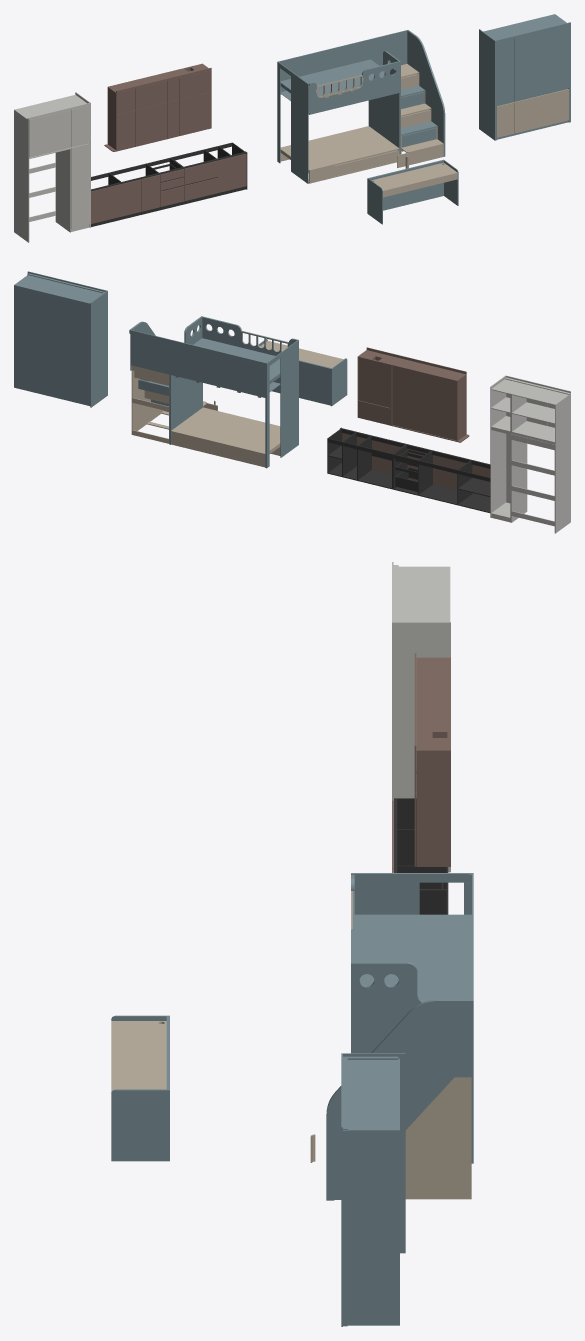
The picture shows the model from 3 angles, top to bottom: view 1: azimuth 30°, elevation 25°; view 2: azimuth 150°, elevation 25°; view 3: azimuth 270°, elevation 25°; orthographic projection. The views are drawn at different scales.
Visible parts, largest first — view 1: ABF_PART_41____LYR_[Layer0]____41. Giường tầng - Trên - Vai , ABF_PART_33____LYR_[Layer0]____33. Giường tầng - Dưới - Chân, ABF_PART_36____LYR_[Layer0]____36. Giường tầng - Trên - Hậu , ABF_PART_165____LYR_[Layer0]____165. Tủ áo - md 1 - Hông trá, ABF_PART_1135____LYR_[Mat_Canh]__Cánh-Tủ khô, ABF_PART_11____LYR_[Layer0]____11. Giường tầng - Dưới - Chân, ABF_PART_2123____LYR_[Layer0]____2123. Giường tầng - Dưới - , ABF_PART_20____LYR_[Layer0]____20. Giường tầng - Trên - Vạt , ABF_PART_1____LYR_[Layer0]__Hồi trái-Tủ lạnh-dưới, ABF_PART_2____LYR_[Layer0]__Hồi phải-Tủ lạnh-dưới, ABF_PART_175____LYR_[_CÁNH]____175. Tủ áo - md 1 - __Cánh ph, ABF_PART_127____LYR_[Layer0]____127. Cầu thang - Tay vịn <Ch (+53 smaller); view 2: ABF_PART_172____LYR_[Layer0]____172. Tủ áo - md 2 - Hậu, ABF_PART_130____LYR_[Layer0]____130. Tủ áo - md 1 - Hậu, ABF_PART_36____LYR_[Layer0]____36. Giường tầng - Trên - Hậu , ABF_PART_1344____LYR_[Layer0]__Hậu-Bếp trên-1, ABF_PART_33____LYR_[Layer0]____33. Giường tầng - Dưới - Chân, ABF_PART_165____LYR_[Layer0]____165. Tủ áo - md 1 - Hông trá, ABF_PART_2124____LYR_[Layer0]____2124. Giường tầng - Dưới - , ABF_PART_11____LYR_[Layer0]____11. Giường tầng - Dưới - Chân, ABF_PART_1____LYR_[Layer0]__Hồi trái-Tủ lạnh-dưới, ABF_PART_1343____LYR_[Layer0]__Hậu-Bếp trên-1, ABF_PART_129____LYR_[Layer0]____129. Cầu thang - Ốp tay hậu, ABF_PART_1353____LYR_[Layer0]__Hậu-Bếp trên-2 (+36 smaller); view 3: ABF_PART_148____LYR_[Layer0]____148. Tủ áo - md 2 - Hông phả, ABF_PART_20____LYR_[Layer0]____20. Giường tầng - Trên - Vạt , ABF_PART_17____LYR_[Layer0]____17. Giường tầng - Dưới - Chân, ABF_PART_197____LYR_[Layer0]____197. Bàn học - Hông phải, ABF_PART_128____LYR_[Layer0]____128. Cầu thang - Tay vịn <Ch, ABF_PART_62____LYR_[Layer0]____62. Cầu thang - Chân trái, ABF_PART_1352____LYR_[Layer0]__Hồi phải-Bếp trên-2, ABF_PART_192____LYR_[Layer0]____192. Bàn học - Nóc, ABF_PART_1136____LYR_[Layer0]__Hồi phải-Tủ khô, ABF_PART_33____LYR_[Layer0]____33. Giường tầng - Dưới - Chân, ABF_PART_127____LYR_[Layer0]____127. Cầu thang - Tay vịn <Ch, ABF_PART_60____LYR_[Layer0]____60. Cầu thang - Chân trái (+10 smaller).
Part boxes in pixels (<box>): ABF_PART_41____LYR_[Layer0]____41. Giường tầng - Trên - Vai : <box>308,61,399,114</box>; ABF_PART_33____LYR_[Layer0]____33. Giường tầng - Dưới - Chân: <box>280,63,308,183</box>; ABF_PART_36____LYR_[Layer0]____36. Giường tầng - Trên - Hậu : <box>279,39,370,94</box>; ABF_PART_165____LYR_[Layer0]____165. Tủ áo - md 1 - Hông trá: <box>479,31,494,140</box>; ABF_PART_1135____LYR_[Mat_Canh]__Cánh-Tủ khô: <box>71,143,89,228</box>; ABF_PART_11____LYR_[Layer0]____11. Giường tầng - Dưới - Chân: <box>370,51,400,154</box>; ABF_PART_2123____LYR_[Layer0]____2123. Giường tầng - Dưới - : <box>308,137,399,170</box>; ABF_PART_20____LYR_[Layer0]____20. Giường tầng - Trên - Vạt : <box>280,60,384,96</box>; ABF_PART_1____LYR_[Layer0]__Hồi trái-Tủ lạnh-dưới: <box>14,148,29,242</box>; ABF_PART_2____LYR_[Layer0]__Hồi phải-Tủ lạnh-dưới: <box>55,149,70,232</box>; ABF_PART_175____LYR_[_CÁNH]____175. Tủ áo - md 1 - __Cánh ph: <box>514,34,532,101</box>; ABF_PART_127____LYR_[Layer0]____127. Cầu thang - Tay vịn <Ch: <box>419,40,444,156</box>; ABF_PART_172____LYR_[Layer0]____172. Tủ áo - md 2 - Hậu: <box>14,285,52,396</box>; ABF_PART_130____LYR_[Layer0]____130. Tủ áo - md 1 - Hậu: <box>52,294,90,405</box>; ABF_PART_36____LYR_[Layer0]____36. Giường tầng - Trên - Hậu : <box>169,339,265,397</box>; ABF_PART_1344____LYR_[Layer0]__Hậu-Bếp trên-1: <box>392,387,456,440</box>; ABF_PART_33____LYR_[Layer0]____33. Giường tầng - Dưới - Chân: <box>269,339,298,457</box>; ABF_PART_165____LYR_[Layer0]____165. Tủ áo - md 1 - Hông trá: <box>90,293,107,407</box>; ABF_PART_2124____LYR_[Layer0]____2124. Giường tầng - Dưới - : <box>171,419,280,454</box>; ABF_PART_11____LYR_[Layer0]____11. Giường tầng - Dưới - Chân: <box>172,316,202,429</box>; ABF_PART_1____LYR_[Layer0]__Hồi trái-Tủ lạnh-dưới: <box>554,434,570,533</box>; ABF_PART_1343____LYR_[Layer0]__Hậu-Bếp trên-1: <box>392,366,456,402</box>; ABF_PART_129____LYR_[Layer0]____129. Cầu thang - Ốp tay hậu: <box>131,330,169,374</box>; ABF_PART_1353____LYR_[Layer0]__Hậu-Bếp trên-2: <box>358,358,389,407</box>; ABF_PART_148____LYR_[Layer0]____148. Tủ áo - md 2 - Hông phả: <box>347,1129,398,1325</box>; ABF_PART_20____LYR_[Layer0]____20. Giường tầng - Trên - Vạt : <box>354,914,471,1001</box>; ABF_PART_17____LYR_[Layer0]____17. Giường tầng - Dưới - Chân: <box>351,963,422,1053</box>; ABF_PART_197____LYR_[Layer0]____197. Bàn học - Hông phải: <box>111,1089,169,1161</box>; ABF_PART_128____LYR_[Layer0]____128. Cầu thang - Tay vịn <Ch: <box>422,999,473,1109</box>; ABF_PART_62____LYR_[Layer0]____62. Cầu thang - Chân trái: <box>405,1084,448,1199</box>; ABF_PART_1352____LYR_[Layer0]__Hồi phải-Bếp trên-2: <box>416,752,450,866</box>; ABF_PART_192____LYR_[Layer0]____192. Bàn học - Nóc: <box>111,1021,166,1091</box>; ABF_PART_1136____LYR_[Layer0]__Hồi phải-Tủ khô: <box>392,622,450,703</box>; ABF_PART_33____LYR_[Layer0]____33. Giường tầng - Dưới - Chân: <box>351,873,463,914</box>; ABF_PART_127____LYR_[Layer0]____127. Cầu thang - Tay vịn <Ch: <box>326,1002,424,1199</box>; ABF_PART_60____LYR_[Layer0]____60. Cầu thang - Chân trái: <box>446,1077,471,1199</box>.
Size of the model in its own units: 12.48 by 2.81 by 3.7.
Materials: 7 (1 with a texture image).
